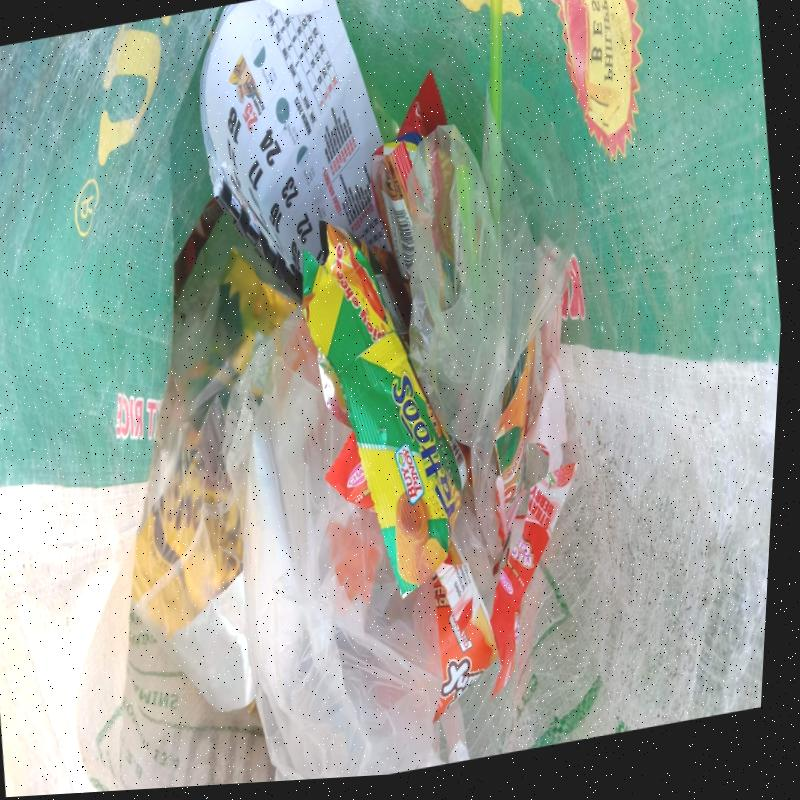food wrapper: (300, 220, 465, 598), (488, 462, 574, 699), (369, 69, 445, 280), (431, 535, 497, 723)
paper: (198, 0, 388, 296)
plastic bag: (242, 321, 441, 781), (403, 101, 568, 564)
plastic straw: (487, 0, 501, 138)
